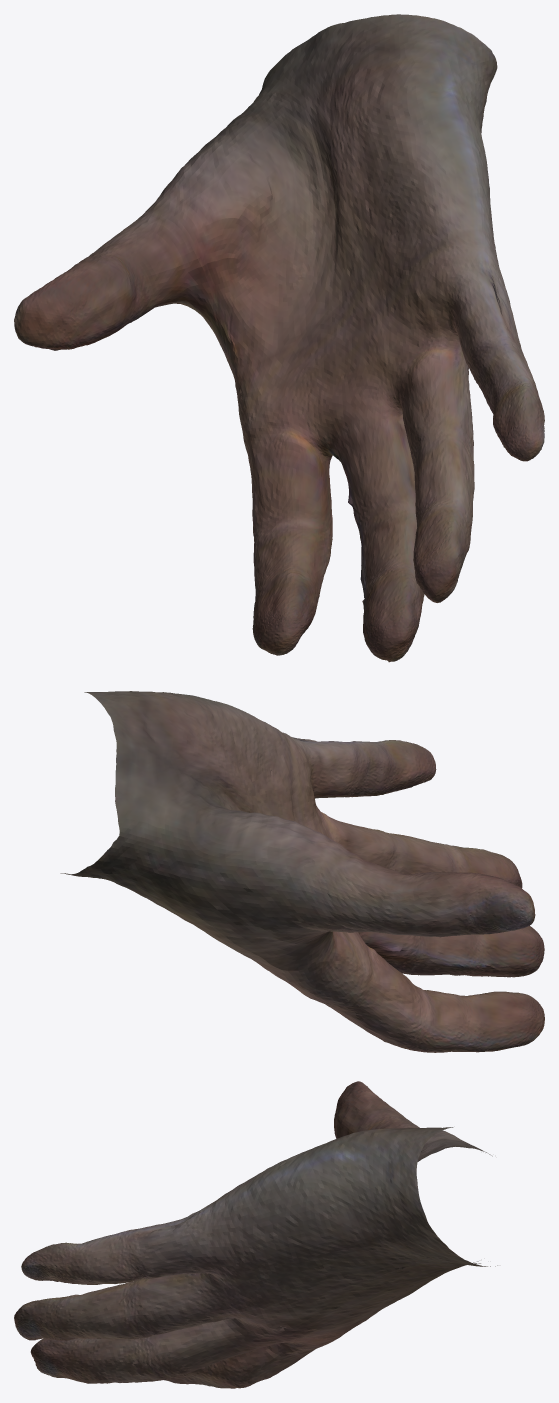
The picture shows the model from 3 angles, top to bottom: view 1: azimuth 30°, elevation 25°; view 2: azimuth 150°, elevation 25°; view 3: azimuth 270°, elevation 25°; orthographic projection. The views are drawn at different scales.
Parts seen in each view (by area): view 1: 8; view 2: 8; view 3: 8.
Boxes of the visible parts, x1,y1,x2,y2 form: 8: (14,14,544,662); 8: (60,691,544,1052); 8: (14,1081,497,1388).
Size of the model in its own units: 0.1753 by 0.1387 by 0.1847.
